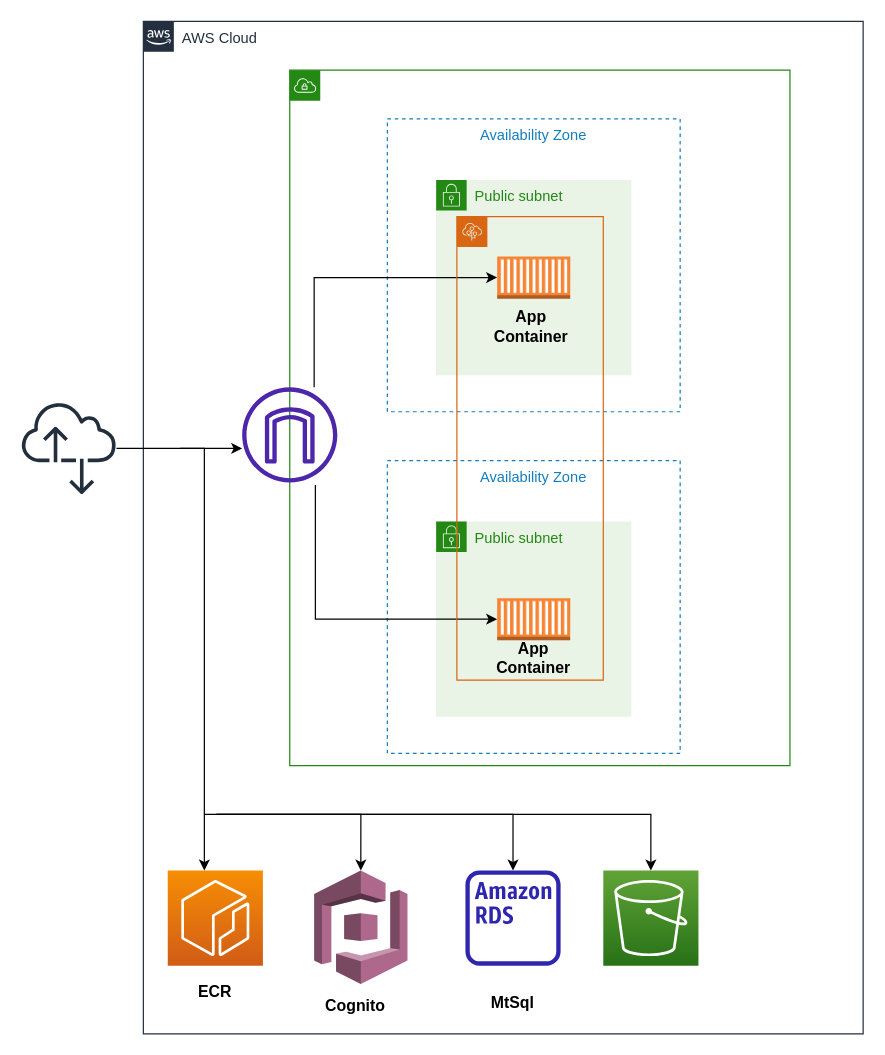
The diagram is 885 pixels wide and 1055 high, and some of its shapes have lost their labels. The box of each missing label's shape, as (x1, y1, x2, y2) in pixels:
ECS Cluster: (456, 215, 603, 680)
VPC: (289, 69, 790, 766)
